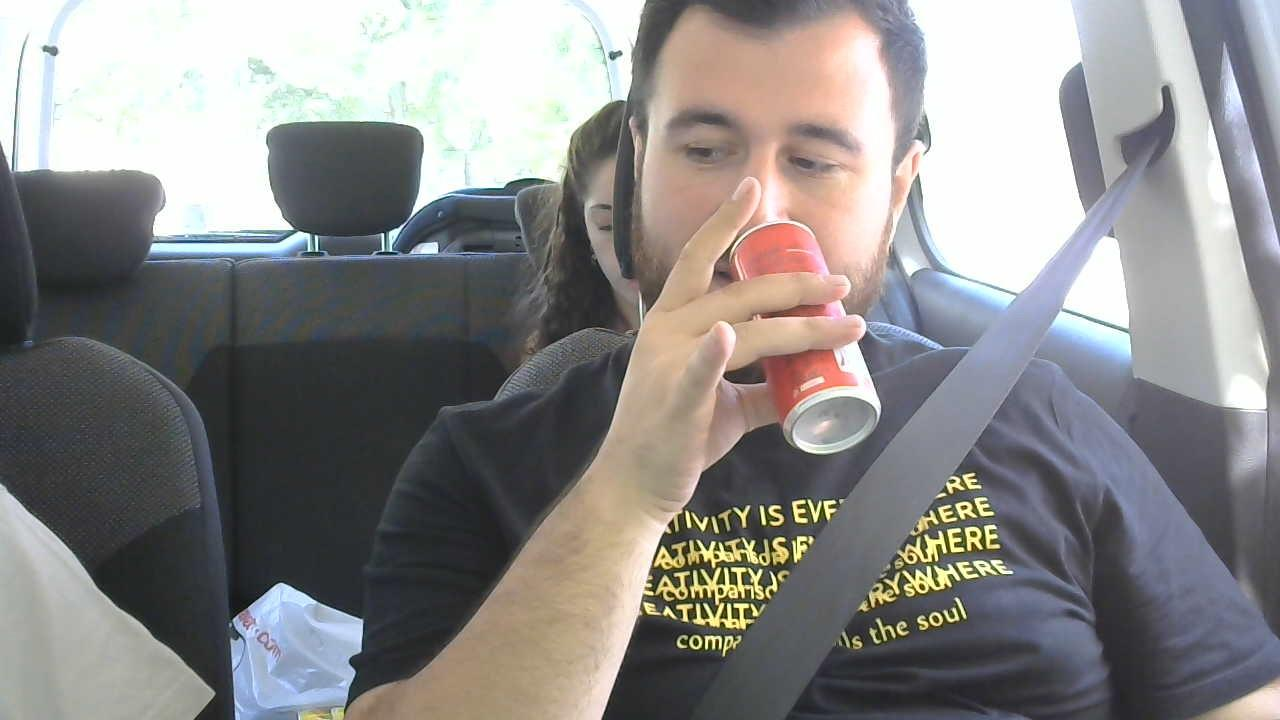Drinking: (629, 6, 924, 453)
